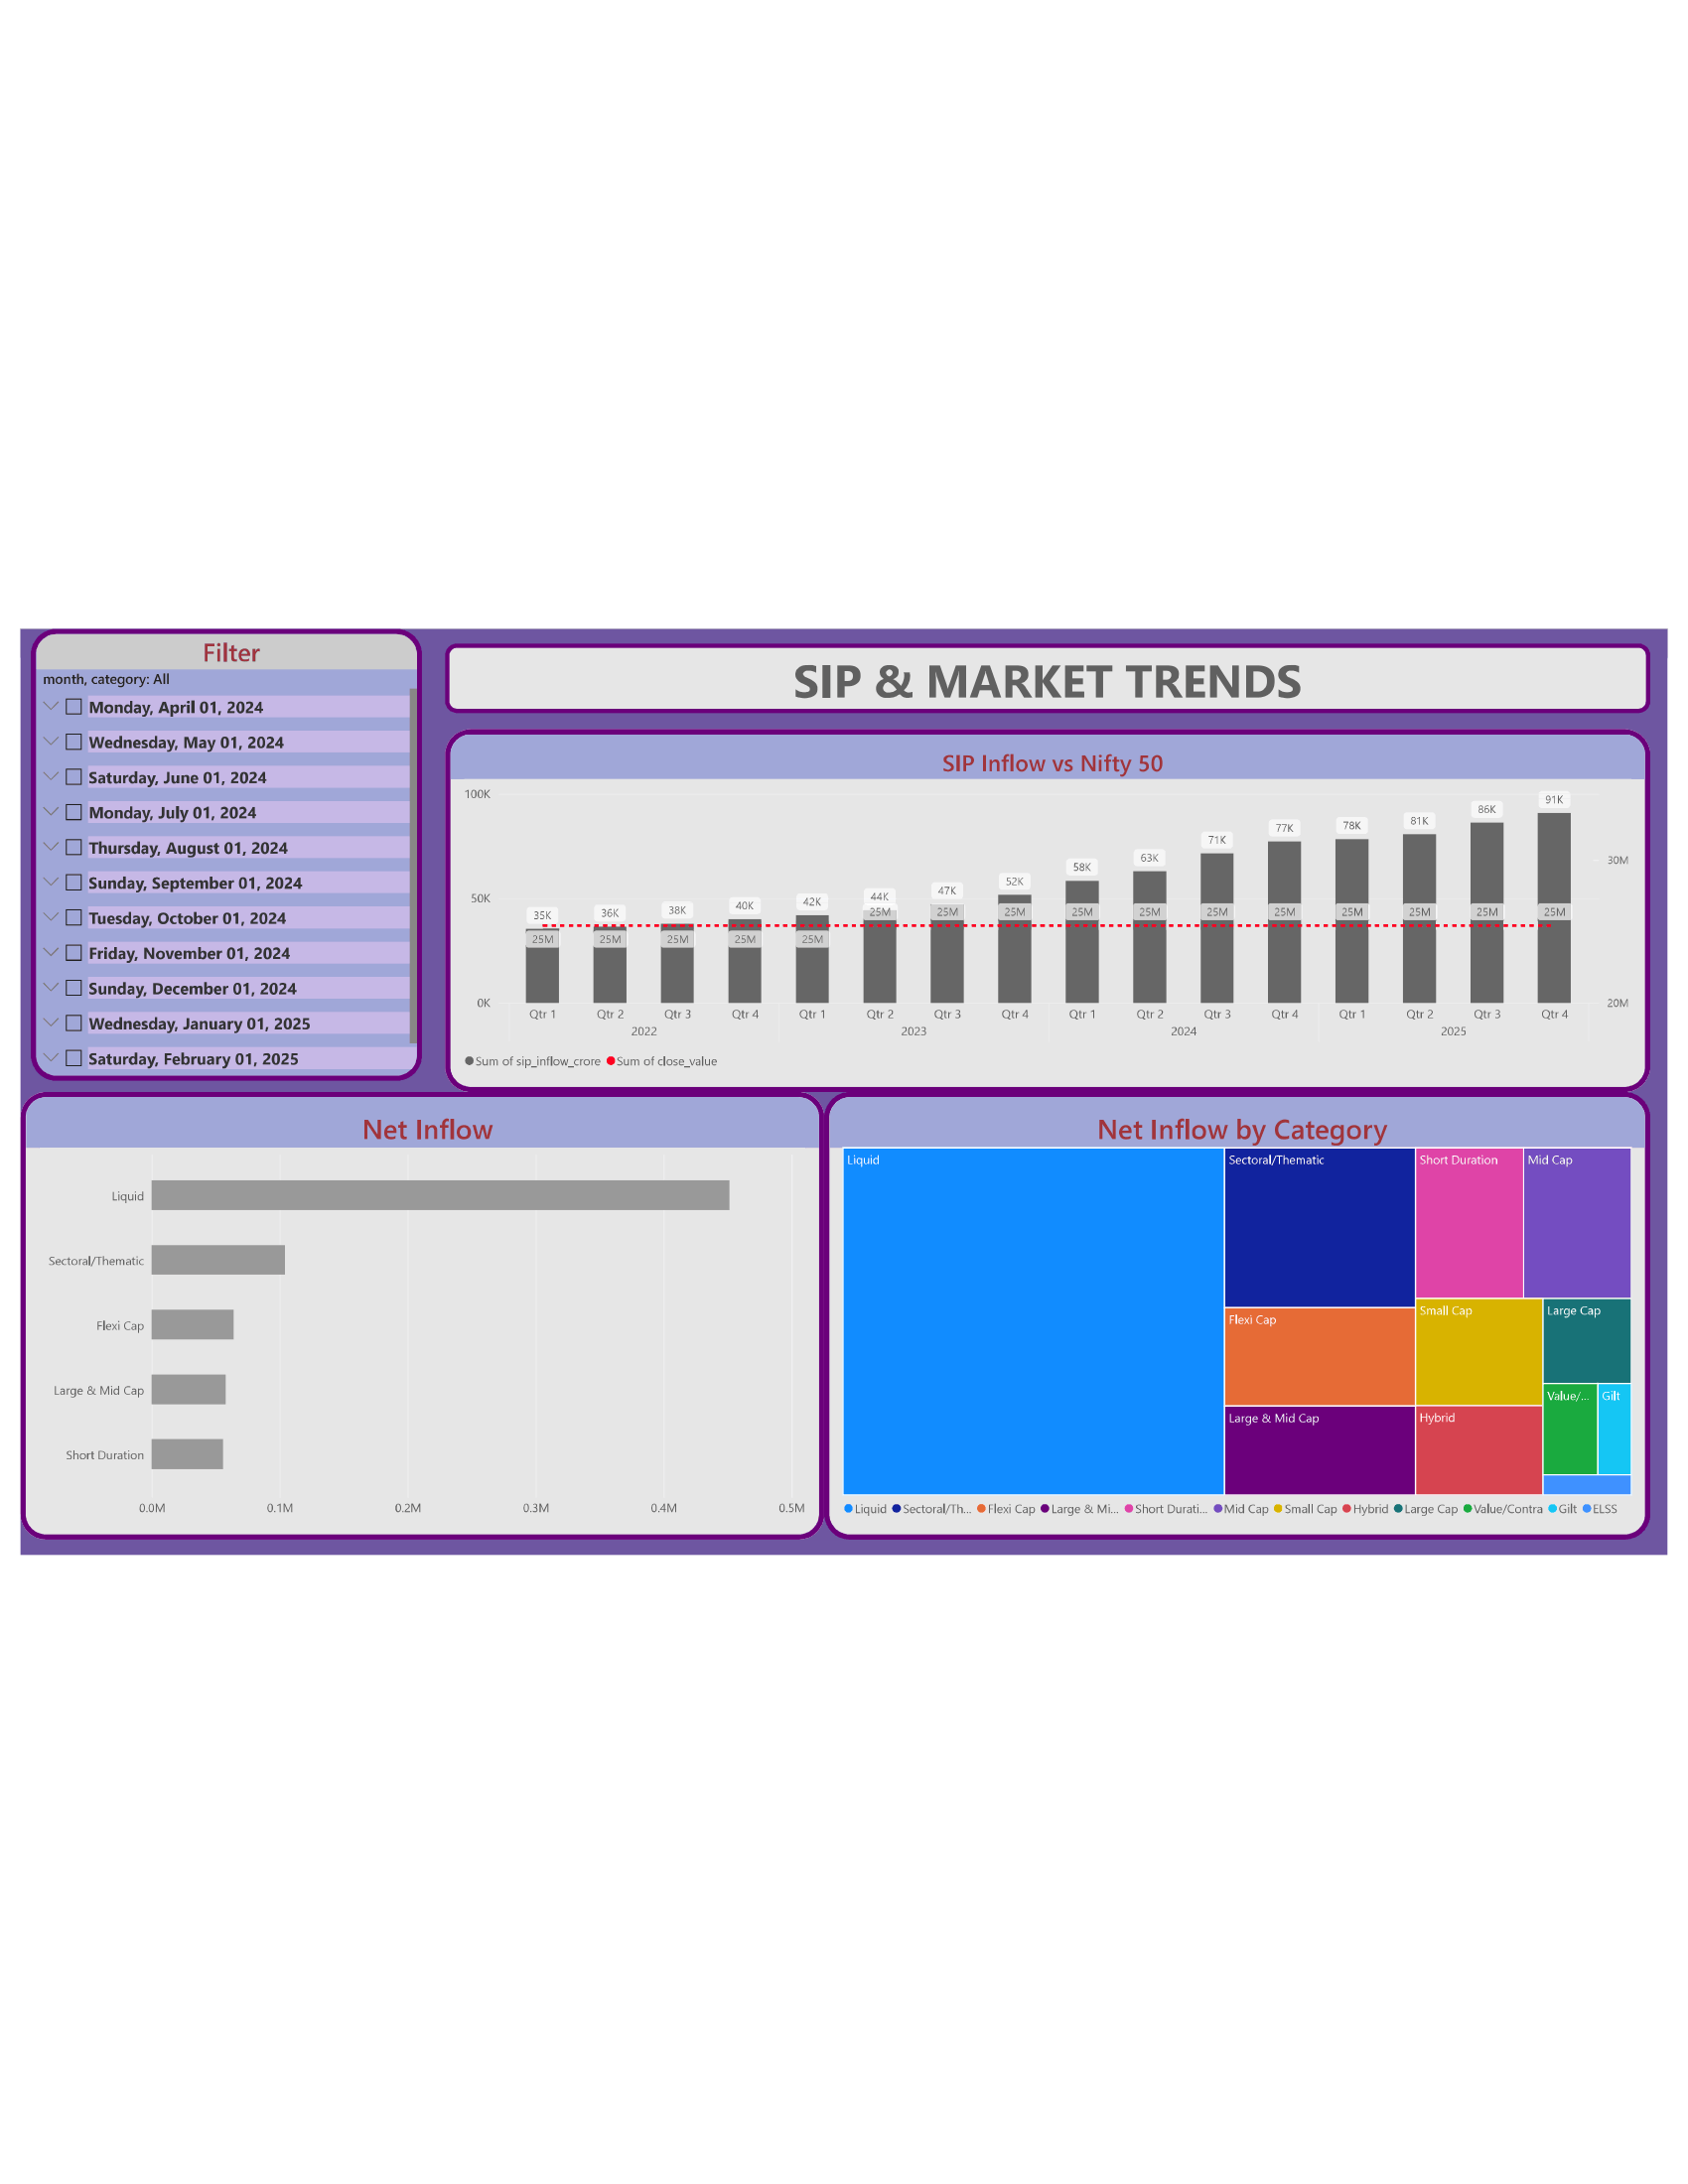

Layout of this report page (visuals, bound fields, positions):
{"tool":"powerbi","page":{"name":"SIP&Market_Trends","canvas":[1920,1080],"ordinal":3},"visuals":[{"type":"lineClusteredColumnComboChart","title":"SIP Inflow vs Nifty 50","fields":{"Category":["04_monthly_sip_inflows.month.Variation.Date Hierarchy.Year","04_monthly_sip_inflows.month.Variation.Date Hierarchy.Quarter","04_monthly_sip_inflows.month.Variation.Date Hierarchy.Month","04_monthly_sip_inflows.month.Variation.Date Hierarchy.Day"],"Y":["Sum(04_monthly_sip_inflows.sip_inflow_crore)"],"Y2":["Sum(10_benchmark_indices.close_value)"]},"box":[495,116.7,1405,423.3],"z":0},{"type":"treemap","title":"Net Inflow by Category","fields":{"Group":["05_category_inflows.category"],"Values":["Sum(05_category_inflows.net_inflow_crore)"]},"box":[937.3,539.8,963,522],"z":1000},{"type":"clusteredBarChart","title":"Net Inflow","fields":{"Category":["05_category_inflows.category"],"Y":["Sum(05_category_inflows.net_inflow_crore)"]},"box":[0,540,936.7,521.7],"z":2000},{"type":"slicer","title":"Filter","fields":{"Values":["05_category_inflows.month","05_category_inflows.category"]},"box":[11.7,0,456.7,526.7],"z":3000},{"type":"textbox","box":[495,16.7,1405,81.7],"z":3001}]}

Visuals, with their boxes in screenshot pixels (x1, y1, x2, y2):
"SIP Inflow vs Nifty 50" lineClusteredColumnComboChart: <bbox>441, 721, 1660, 1088</bbox>
"Net Inflow by Category" treemap: <bbox>825, 1088, 1660, 1541</bbox>
"Net Inflow" clusteredBarChart: <bbox>11, 1088, 824, 1541</bbox>
"Filter" slicer: <bbox>22, 619, 418, 1077</bbox>
textbox: <bbox>441, 634, 1660, 705</bbox>
